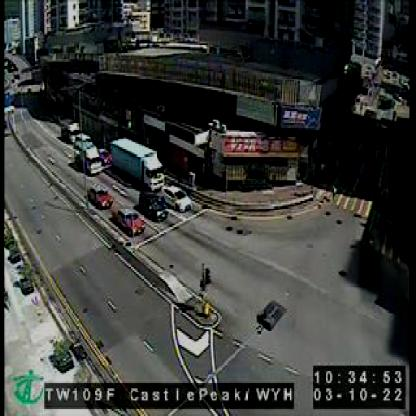Car: (138, 191, 166, 225), (161, 184, 191, 213), (113, 208, 144, 232), (87, 184, 112, 211)
Truck: (111, 138, 165, 190), (70, 144, 104, 173), (57, 118, 78, 142)
